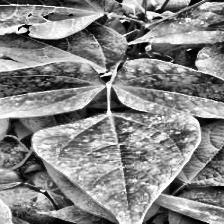Bean Rust: (28, 111, 194, 224), (110, 52, 224, 120), (0, 0, 107, 39)
